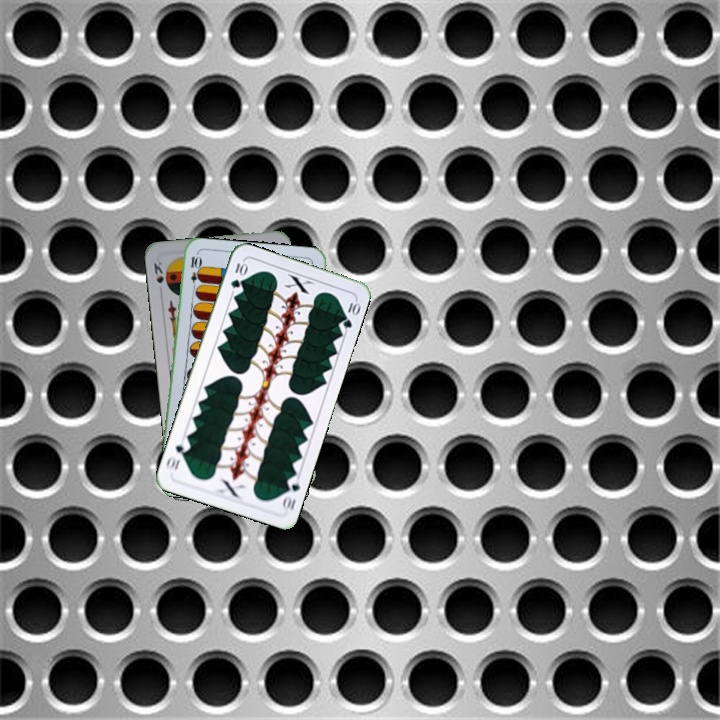E10: (186, 252, 201, 293)
G10: (278, 472, 302, 514), (226, 258, 249, 291)
SK: (150, 257, 166, 297)
